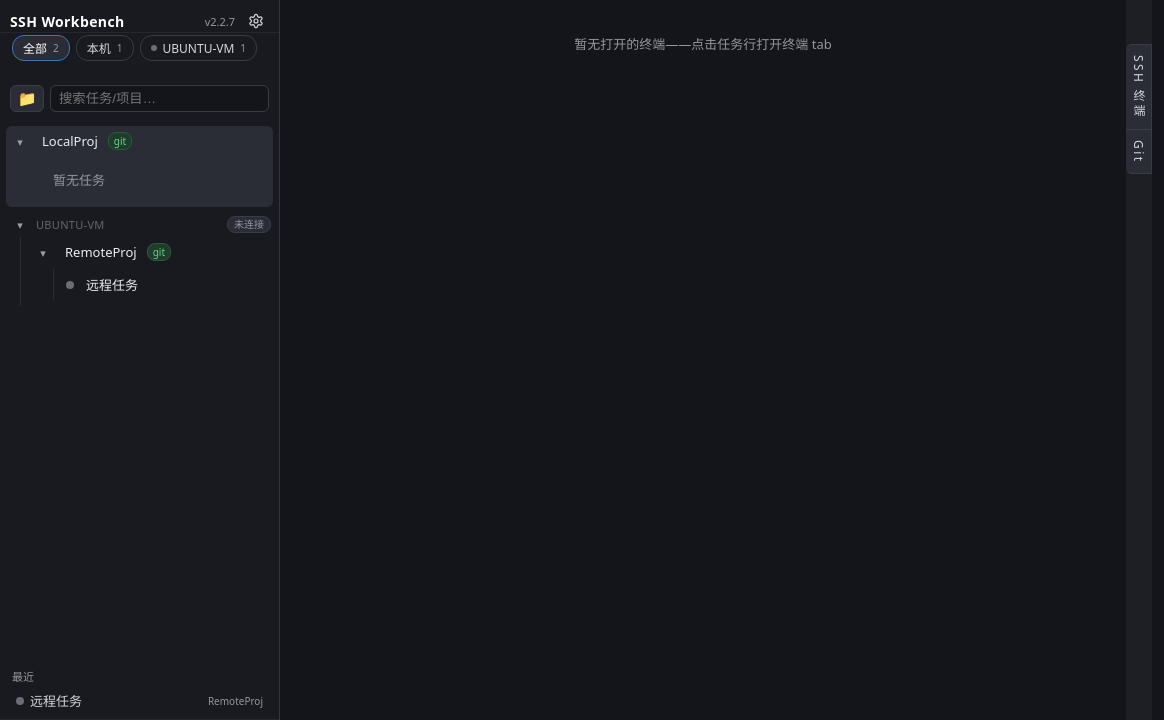
Test: 折叠 rail：远程项目角标与悬停预览（3.10/3.11） › 悬停远程头像 400ms → peek 浮层（服务器归属+任务状态点）；离开关闭
Expected: the element with class "sidebar" is shown, [0, 0, 280, 719]
Press b
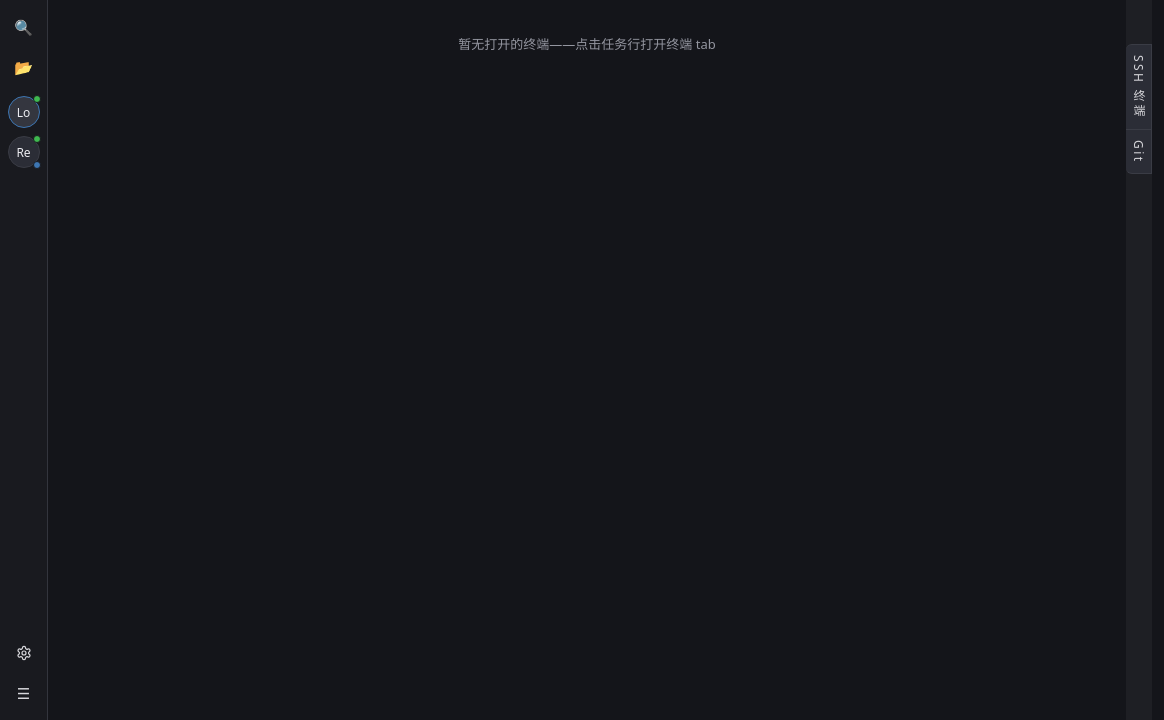
Hover over the button "Re".
mouse_move(24, 152)  # box [8, 136, 40, 168]
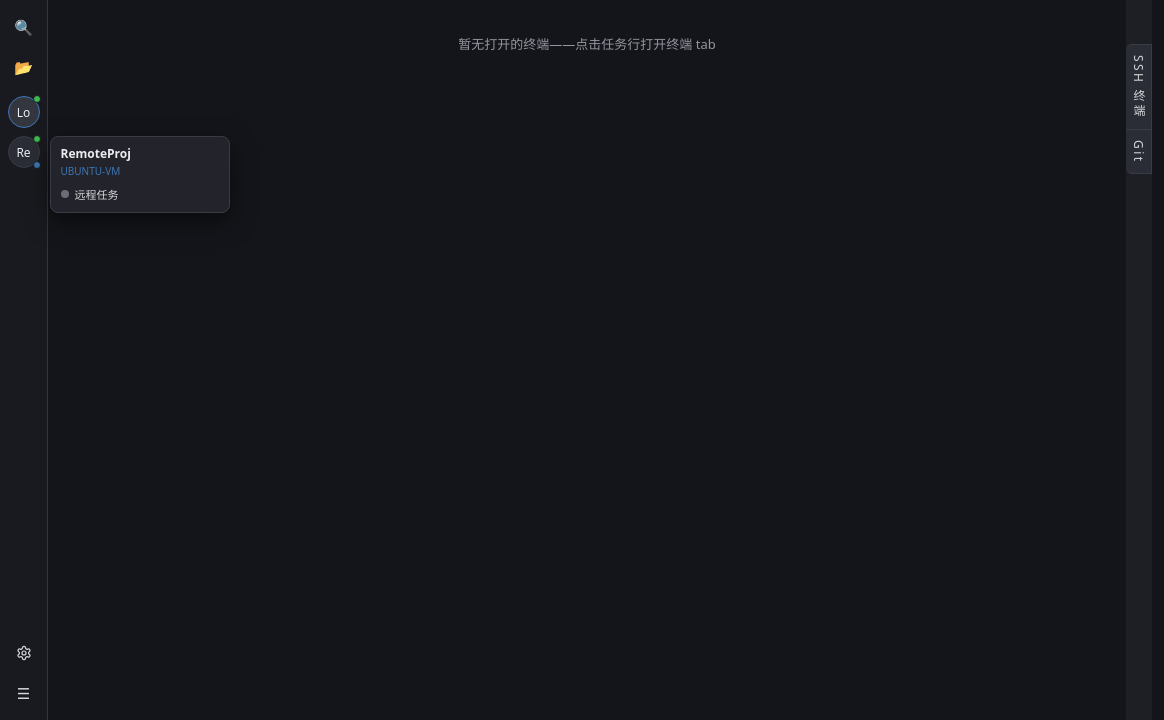
Expected: the tooltip with class "rail-peek" is shown, [50, 136, 230, 213]
Expected: the text with class "rail-peek-title" reads "RemoteProj", [60, 145, 131, 162]
Expected: the text with class "rail-peek-server" reads "UBUNTU-VM", [60, 164, 120, 178]
Move the pointer off the button "Re", box [8, 136, 40, 168]
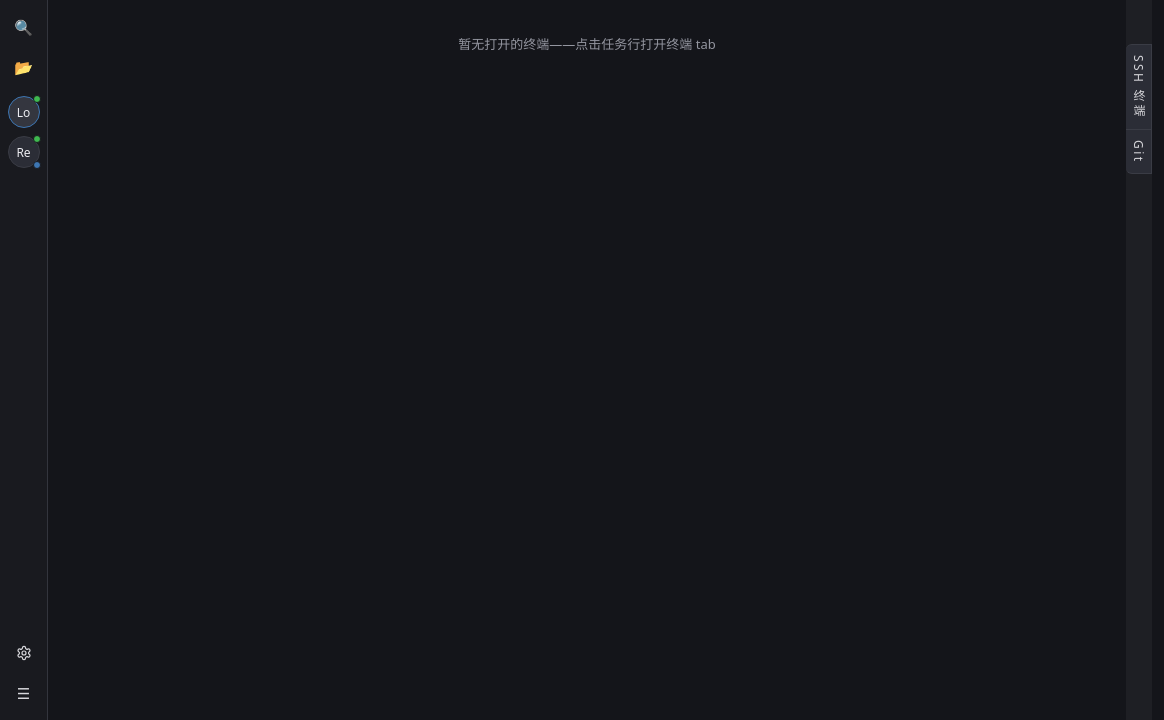
Expected: the tooltip with class "rail-peek" is gone
